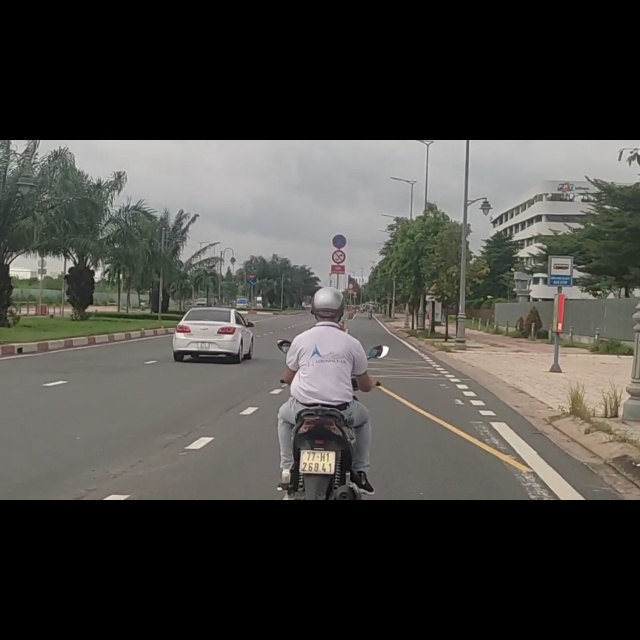bien_cam: (548, 201, 575, 262), (332, 166, 347, 193), (331, 196, 347, 219)
